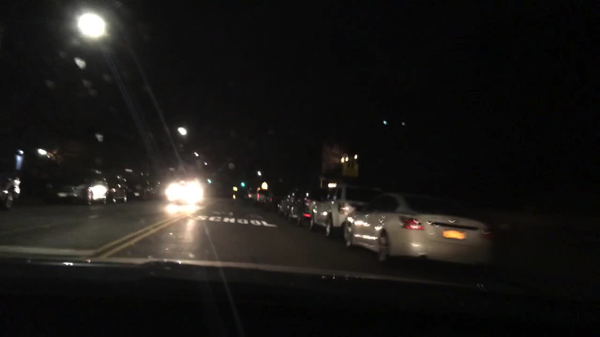car: (346, 192, 495, 276), (307, 185, 381, 237), (43, 166, 111, 208), (286, 186, 324, 224), (0, 170, 25, 209), (170, 179, 205, 206), (124, 172, 158, 199), (278, 185, 303, 217), (103, 174, 130, 203), (267, 188, 286, 209), (149, 174, 164, 195), (252, 191, 270, 206), (245, 187, 257, 200)
traffic light: (241, 182, 246, 189)
traffic sign: (342, 154, 359, 177), (260, 180, 269, 190)
